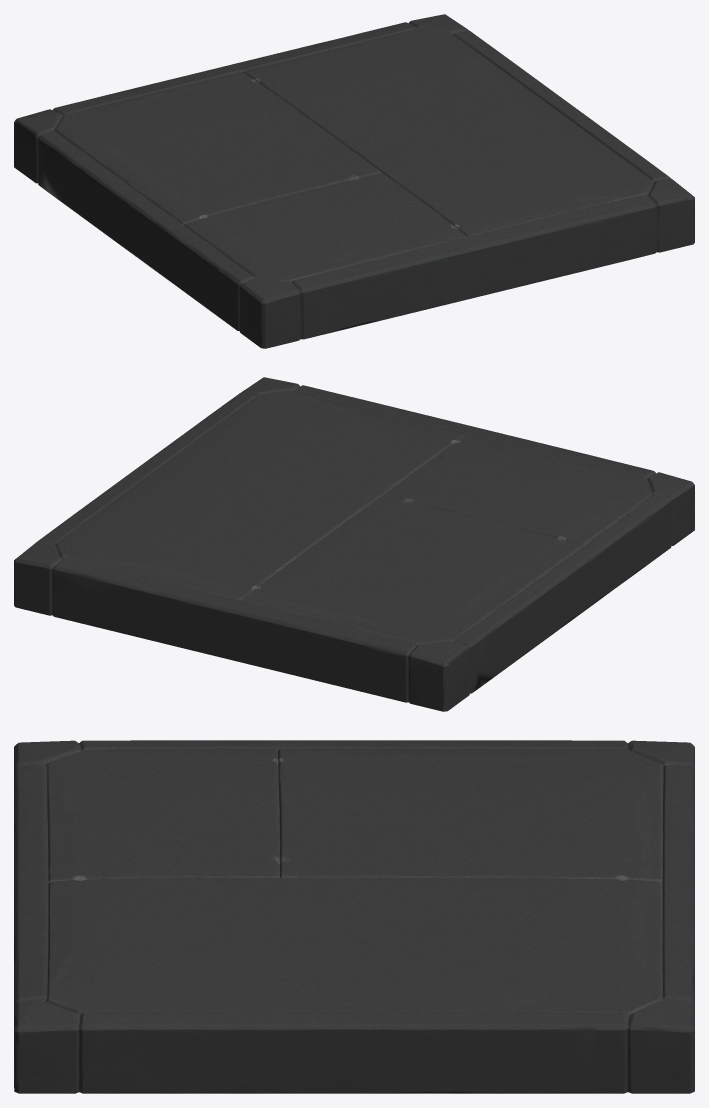
File: MeshyFloor.fbx
The picture shows the model from 3 angles, top to bottom: view 1: azimuth 30°, elevation 25°; view 2: azimuth 150°, elevation 25°; view 3: azimuth 270°, elevation 25°; orthographic projection. The views are drawn at different scales.
Visible parts, largest first — view 1: Mesh_0; view 2: Mesh_0; view 3: Mesh_0.
Boxes of the visible parts, box(x1,y1,x2,y2) form: Mesh_0: box(14, 14, 694, 348); Mesh_0: box(14, 377, 694, 711); Mesh_0: box(14, 740, 694, 1093).
Bounding box in the file's own units: 200 × 23.83 × 200.
1 material, 1 textured.
